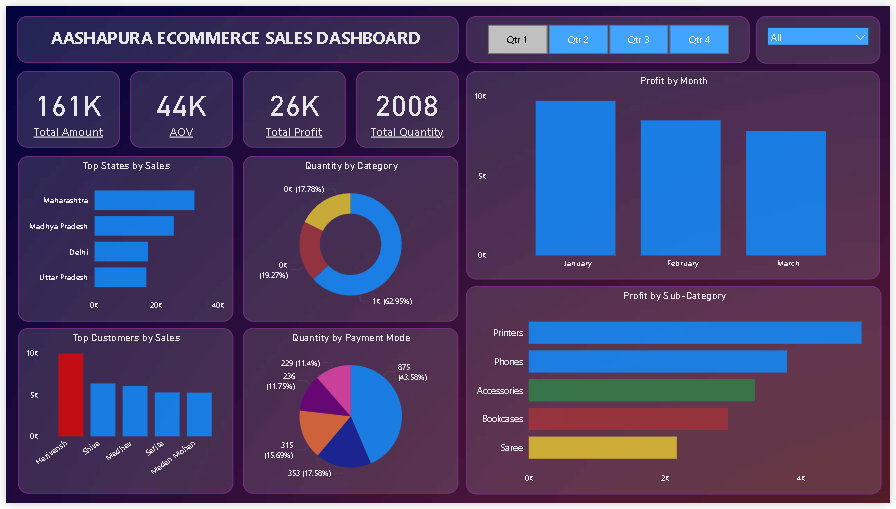

This screenshot's page, from the dashboard's own definition file:
{"tool":"powerbi","page":{"name":"Page 2","canvas":[1280,720],"ordinal":1},"visuals":[{"type":"textbox","box":[15.4,14.6,640,67.7],"z":0},{"type":"columnChart","title":"Profit by Month","fields":{"Category":["Orders.Order Date.Variation.Date Hierarchy.Month"],"Y":["Sum(Details.Profit)"]},"box":[666.9,94.6,600,302.3],"z":1000},{"type":"barChart","title":"Profit by Sub-Category","fields":{"Category":["Details.Sub-Category"],"Y":["Sum(Details.Profit)"]},"box":[666.7,405.6,602.2,302.2],"z":2000},{"type":"donutChart","title":"Quantity by Category","fields":{"Category":["Details.Category"],"Y":["Sum(Details.Quantity)"]},"box":[343.3,216.7,311.7,240],"z":3000},{"type":"pieChart","title":"Quantity by Payment Mode","fields":{"Category":["Details.PaymentMode"],"Y":["Sum(Details.Quantity)"]},"box":[343.1,466.9,312.3,240],"z":4000},{"type":"card","fields":{"Values":["Sum(Details.Amount)"]},"box":[15.7,94.3,148.6,111.4],"z":5000},{"type":"card","fields":{"Values":["Sum(Details.AOV)"]},"box":[180,94.3,148.6,111.4],"z":6000},{"type":"card","fields":{"Values":["Sum(Details.Profit)"]},"box":[342.9,94.3,148.6,111.4],"z":7000},{"type":"card","fields":{"Values":["Sum(Details.Quantity)"]},"box":[507.1,94.3,148.6,111.4],"z":8000},{"type":"barChart","title":"Top States by Sales","fields":{"Category":["Orders.State"],"Y":["Sum(Details.Amount)"]},"box":[16.7,216.7,311.7,240],"z":9000},{"type":"columnChart","title":"Top Customers by Sales","fields":{"Category":["Orders.CustomerName"],"Y":["Sum(Details.Amount)"]},"box":[16.7,466.7,311.7,240],"z":10000},{"type":"slicer","fields":{"Values":["Orders.Order Date.Variation.Date Hierarchy.Quarter"]},"box":[666.7,14.4,411.1,67.8],"z":11000},{"type":"slicer","fields":{"Values":["Orders.State"]},"box":[1087,14,180,69],"z":12000}]}

Visuals, with their boxes in screenshot pixels (x1, y1, x2, y2), scaled from the page's 1280x720 canvas onto the 896x509 screenshot:
textbox: bbox=(11, 10, 459, 58)
"Profit by Month" columnChart: bbox=(467, 67, 887, 281)
"Profit by Sub-Category" barChart: bbox=(467, 287, 888, 500)
"Quantity by Category" donutChart: bbox=(240, 153, 458, 323)
"Quantity by Payment Mode" pieChart: bbox=(240, 330, 459, 500)
card - Sum(Details.Amount): bbox=(11, 67, 115, 145)
card - Sum(Details.AOV): bbox=(126, 67, 230, 145)
card - Sum(Details.Profit): bbox=(240, 67, 344, 145)
card - Sum(Details.Quantity): bbox=(355, 67, 459, 145)
"Top States by Sales" barChart: bbox=(12, 153, 230, 323)
"Top Customers by Sales" columnChart: bbox=(12, 330, 230, 500)
slicer - Orders.Order Date.Variation.Date Hierarchy.Quarter: bbox=(467, 10, 754, 58)
slicer - Orders.State: bbox=(761, 10, 887, 59)
